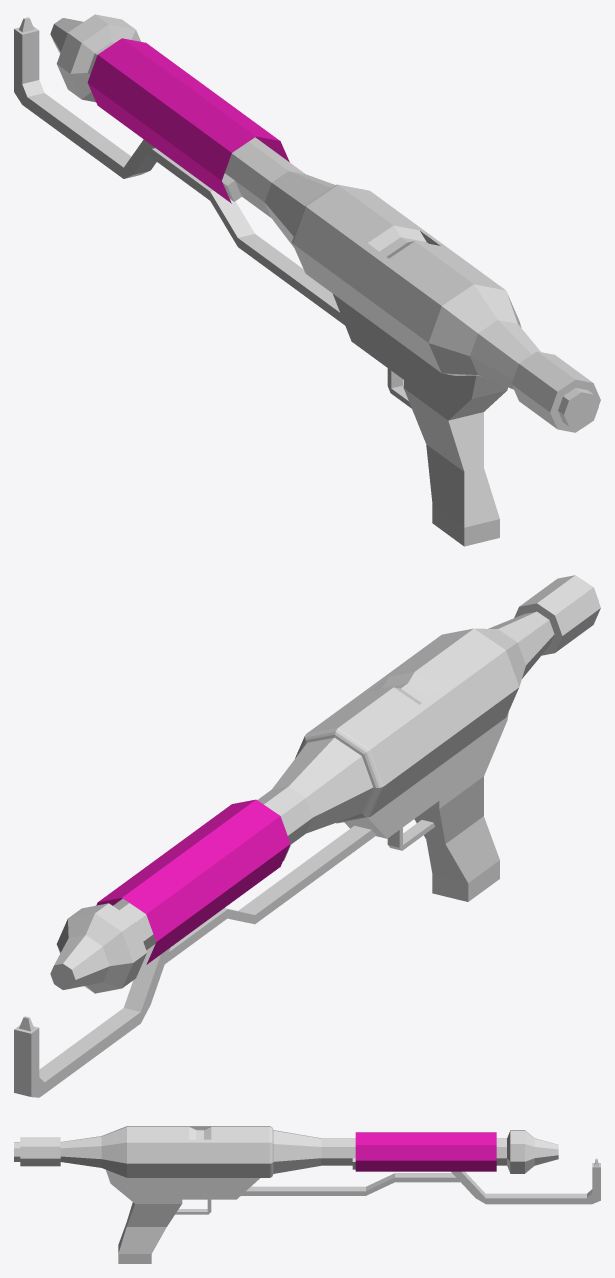
File: flameTh_gun.fbx
3 renders of one model, top to bottom at view 1: azimuth 30°, elevation 25°; view 2: azimuth 150°, elevation 25°; view 3: azimuth 270°, elevation 25°, orthographic. The views are drawn at different scales.
Visible parts, largest first — view 1: Cube.011; view 2: Cube.011; view 3: Cube.011.
Part boxes in pixels (left/top/right/bottom): Cube.011: left=14, top=14, right=600, bottom=546; Cube.011: left=14, top=575, right=600, bottom=1097; Cube.011: left=14, top=1126, right=600, bottom=1263.
Bounding box in the file's own units: 11.46 × 30.34 × 122.
